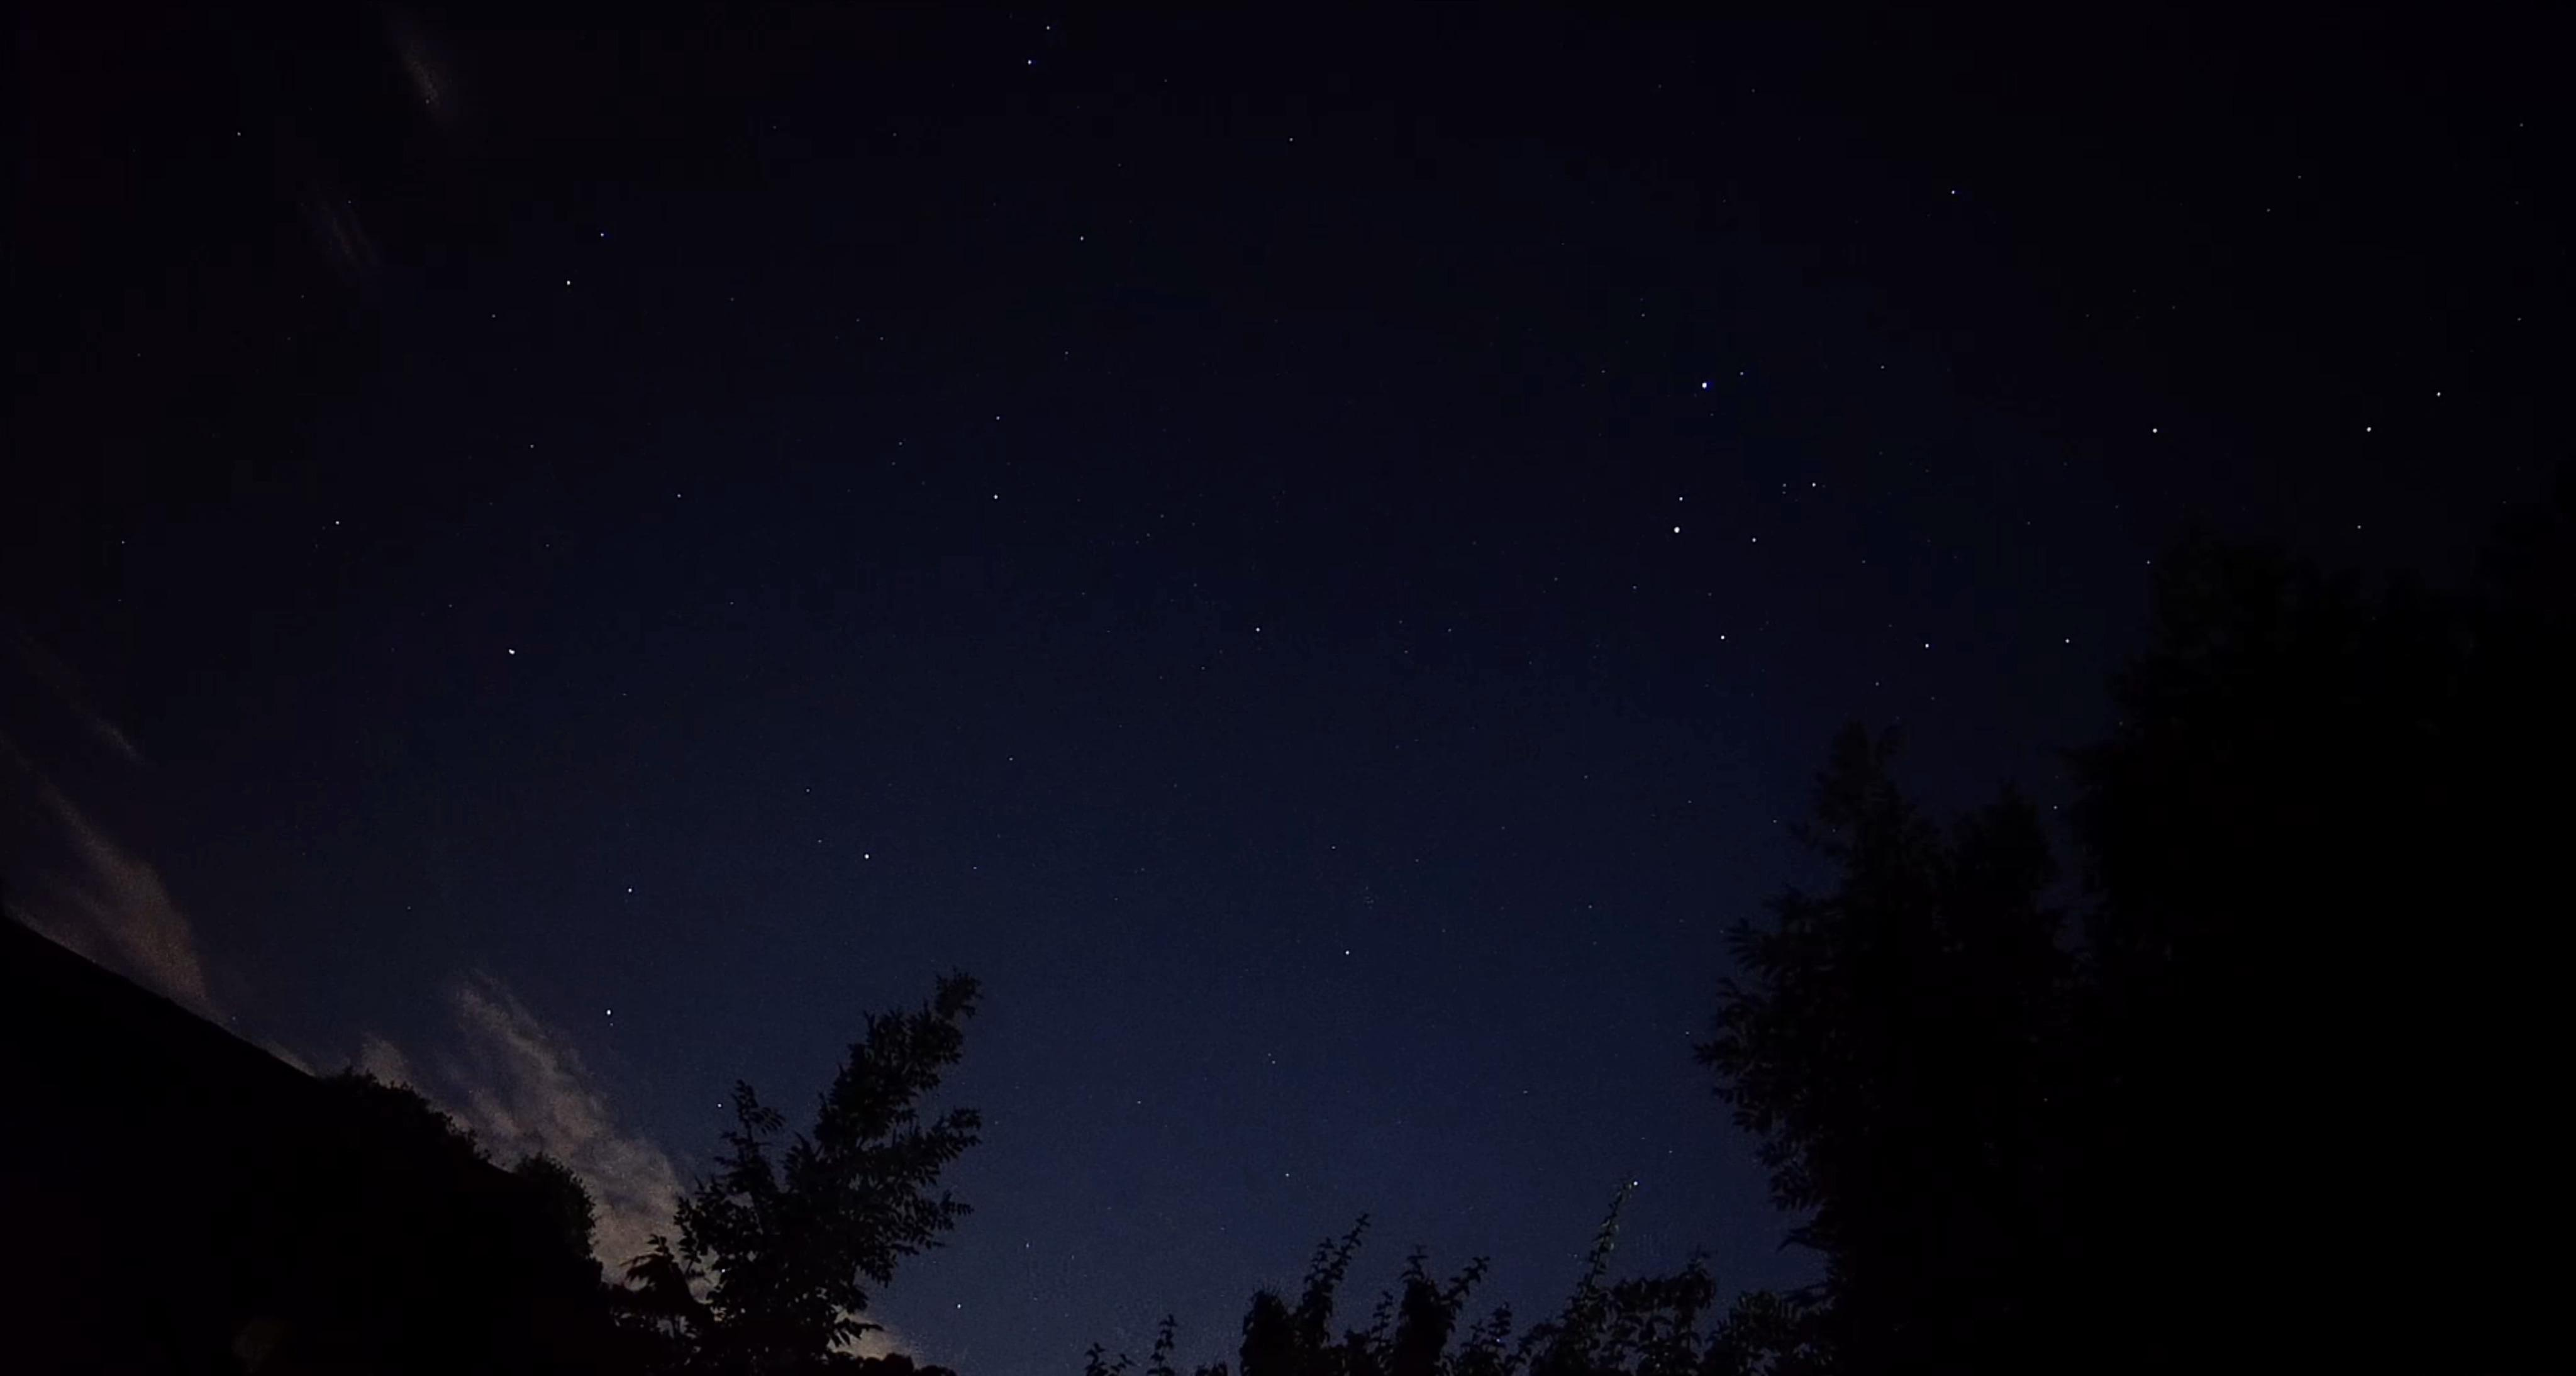Plane: (486, 634, 530, 671)
